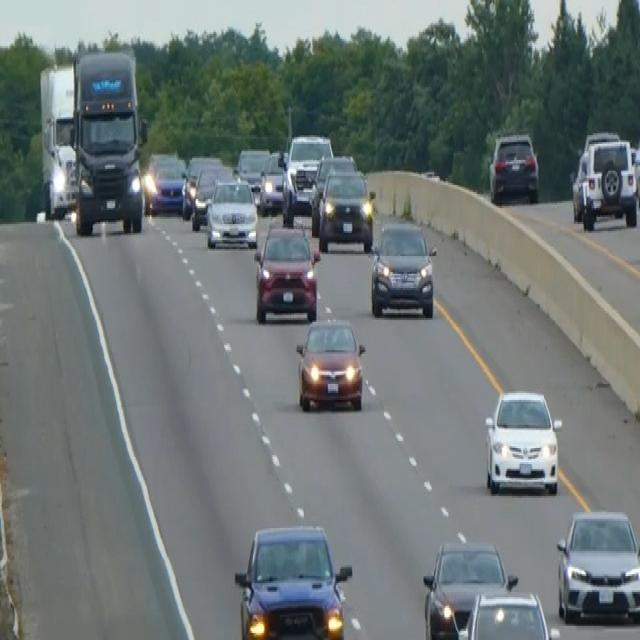car: (555, 507, 639, 624), (422, 537, 517, 638), (483, 386, 562, 496), (368, 217, 437, 318), (295, 314, 366, 412), (253, 220, 319, 324), (570, 132, 638, 231), (456, 587, 560, 638), (317, 167, 375, 253), (281, 132, 333, 220), (204, 176, 258, 249), (488, 130, 540, 204), (309, 153, 356, 233), (143, 149, 186, 215), (190, 162, 232, 229), (180, 153, 221, 219), (258, 148, 287, 214), (235, 146, 270, 196), (631, 138, 639, 210)
jeep: (232, 523, 355, 638)
lorry: (71, 48, 147, 235)
